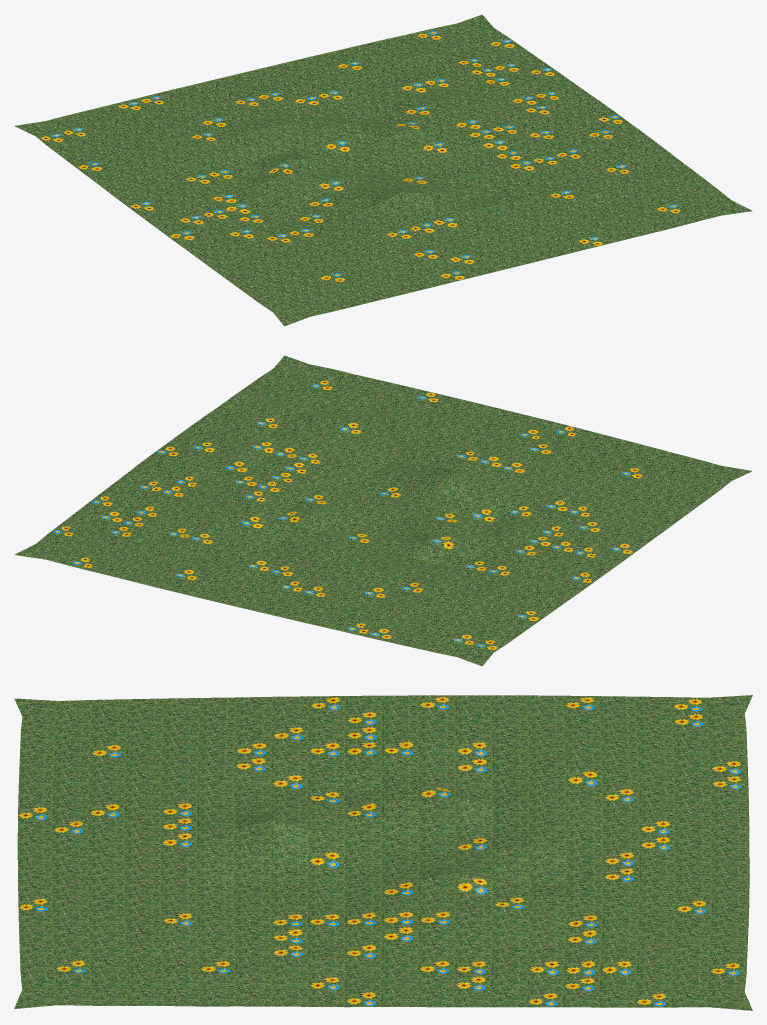
File: LandscapeModel.gltf
3 renders of one model, top to bottom at view 1: azimuth 30°, elevation 25°; view 2: azimuth 150°, elevation 25°; view 3: azimuth 270°, elevation 25°, orthographic. The views are drawn at different scales.
Parts seen in each view (by area): view 1: landscapeMesh; view 2: landscapeMesh; view 3: landscapeMesh.
Part boxes in pixels (x1,y1,x2,y2): landscapeMesh: (14,14,752,326); landscapeMesh: (14,355,752,666); landscapeMesh: (14,695,752,1010).
Bounding box in the file's own units: 20 × 0.567 × 20.01.
Materials: 1 (1 with a texture image).
